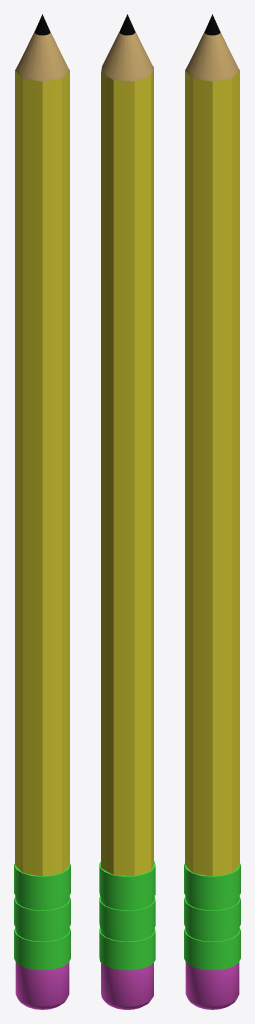
The model's file is pencil.gltf.
3 views of the same model, side by side, from view 1: azimuth 90°, elevation 25°; view 2: azimuth 150°, elevation 25°; view 3: azimuth 270°, elevation 25° (orthographic).
Visible parts, largest first — view 1: Circle.010; view 2: Circle.010; view 3: Circle.010.
Part boxes in pixels (<box>): Circle.010: <box>14,14,70,1009</box>; Circle.010: <box>99,14,155,1009</box>; Circle.010: <box>184,14,240,1009</box>.
Size of the model in its own units: 0.8433 by 16.19 by 0.8433.
